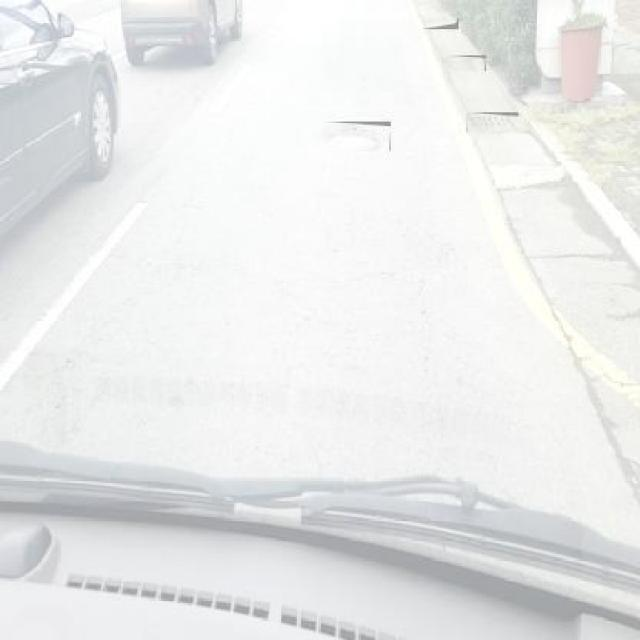Manhole: (323, 122, 391, 150), (466, 112, 520, 132), (444, 56, 486, 72), (423, 18, 459, 30)
